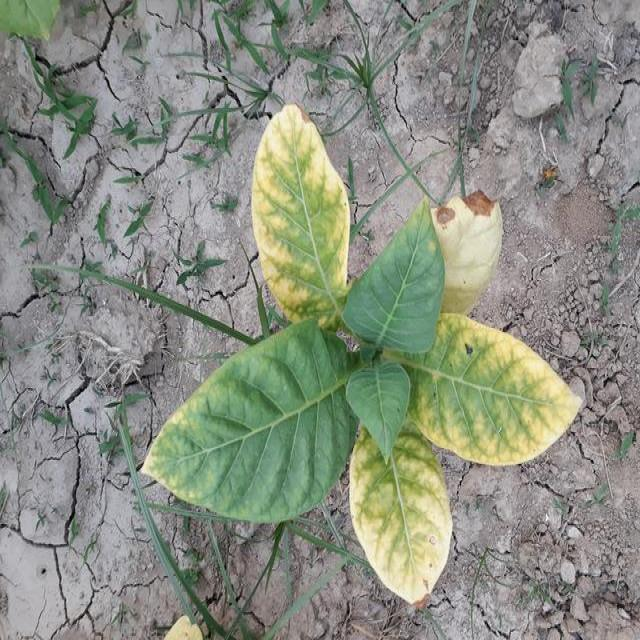crop: (153, 115, 570, 602)
